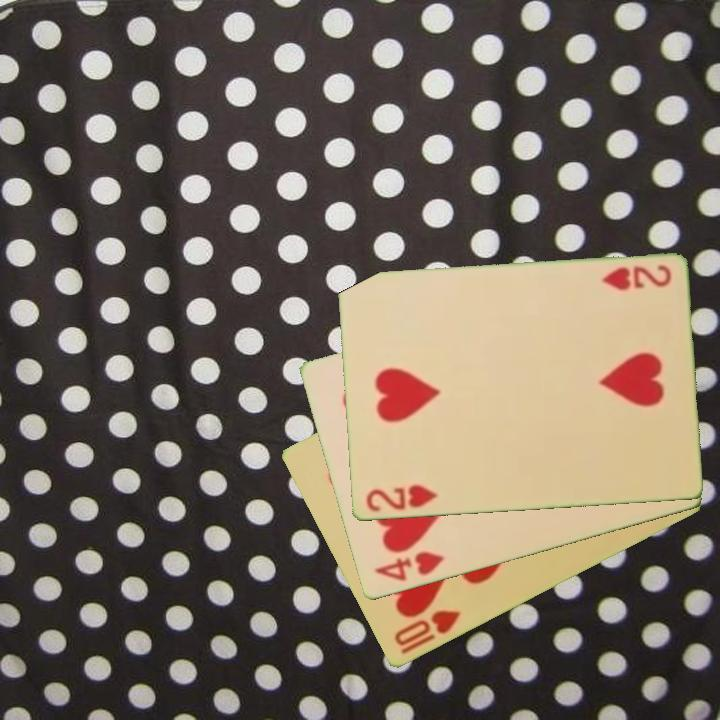10h: (390, 606, 464, 650)
2h: (362, 481, 440, 515), (598, 261, 674, 294)
4h: (371, 548, 447, 585)
